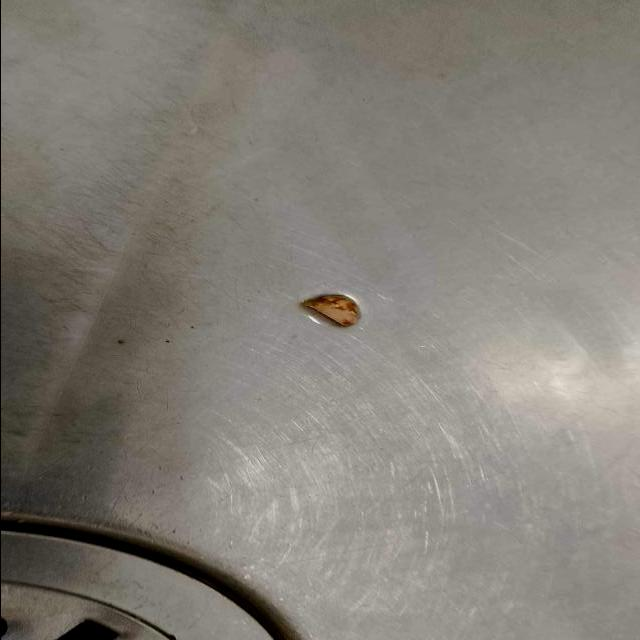General: (1, 0, 640, 639)
Sharps: (301, 292, 362, 327)
